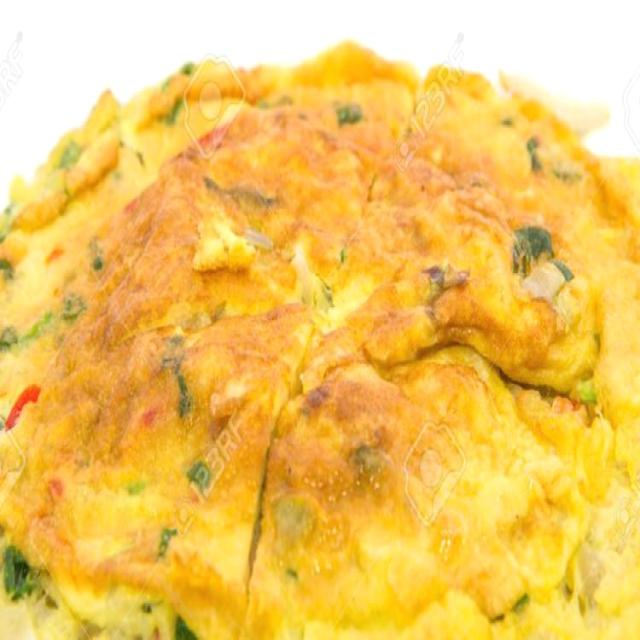omelette: (0, 72, 635, 640)
